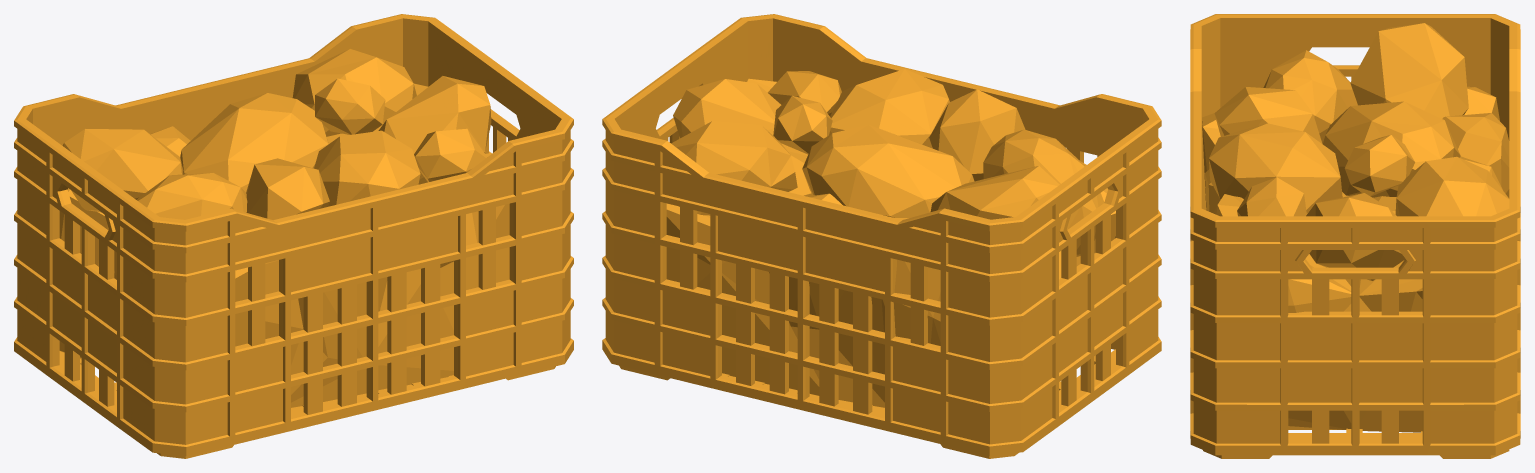
Rendered from SM_Crate_Plastic_Big_Potatoes_A.fbx.
3 renders of one model, left to right at view 1: azimuth 30°, elevation 25°; view 2: azimuth 150°, elevation 25°; view 3: azimuth 270°, elevation 25°, orthographic.
Parts seen in each view (by area): view 1: crate-plastic-big-potatoes-a; view 2: crate-plastic-big-potatoes-a; view 3: crate-plastic-big-potatoes-a.
Part boxes in pixels (left/top/right/bottom): crate-plastic-big-potatoes-a: left=14, top=14, right=573, bottom=458; crate-plastic-big-potatoes-a: left=602, top=14, right=1161, bottom=458; crate-plastic-big-potatoes-a: left=1190, top=14, right=1520, bottom=458.
Bounding box in the file's own units: 0.6083 × 0.3482 × 0.4083.
